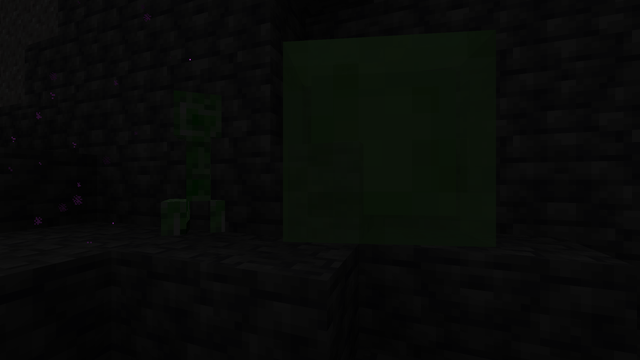creepers: (160, 81, 219, 235)
slimes: (265, 3, 482, 254)
